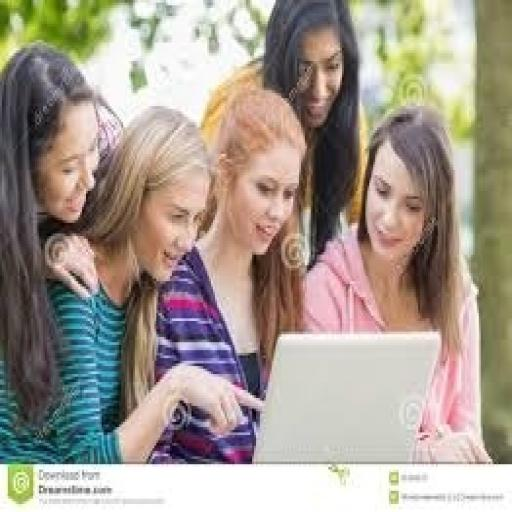using_laptop: (250, 329, 442, 464)
